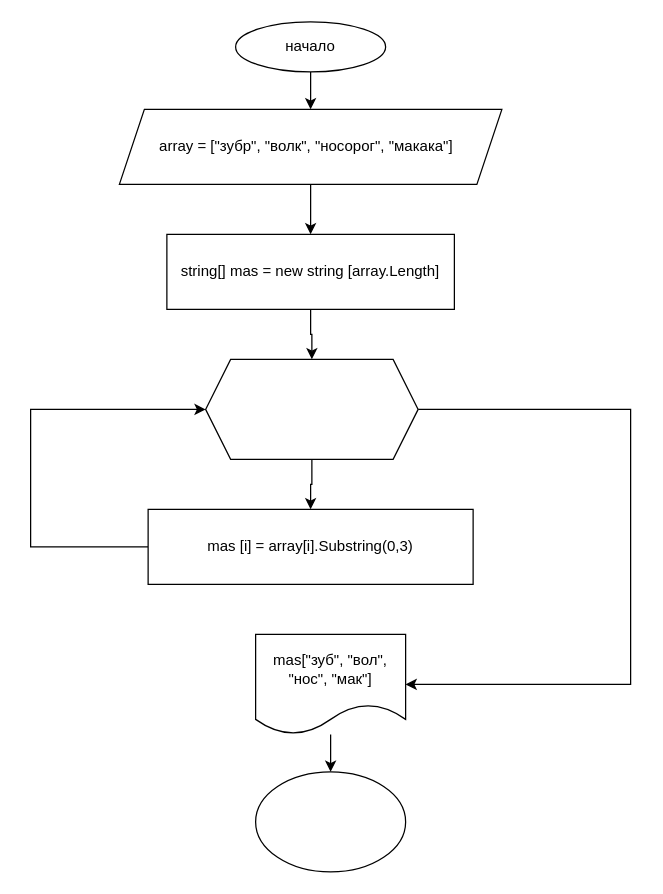
The diagram is 663 pixels wide and 894 high, and some of its shapes have lost their labels. Each missing label, with the box of its shape:
i = 0, i < array.Length, 1: (204, 358, 418, 459)
конец: (254, 771, 406, 872)
